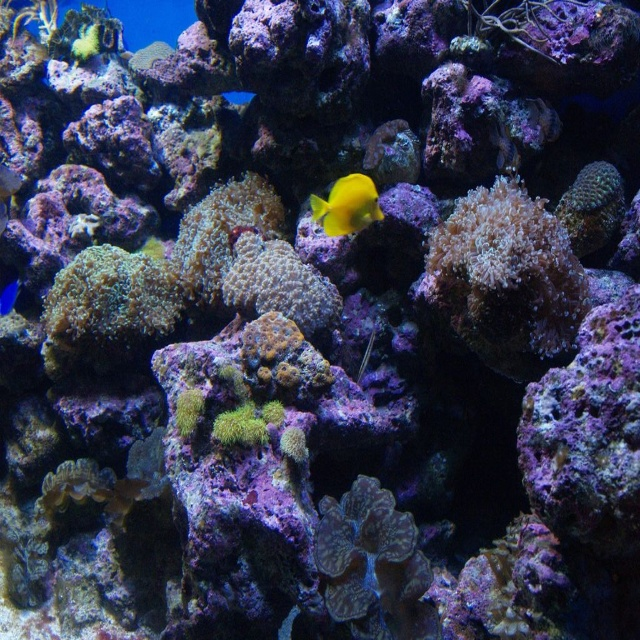Fish: (318, 169, 389, 241), (0, 279, 25, 322)
